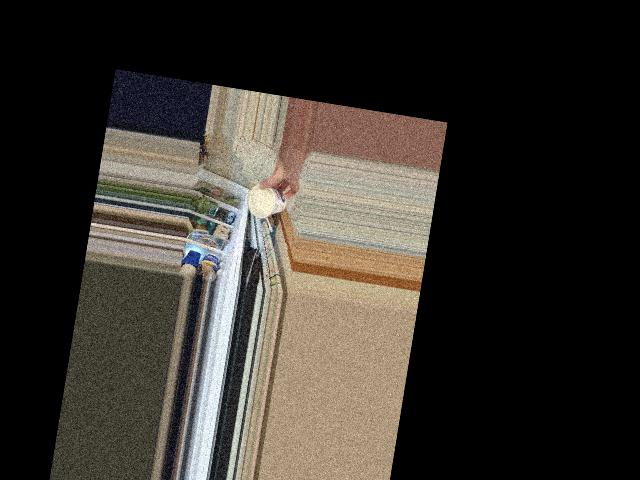cotage: (246, 181, 288, 221)
